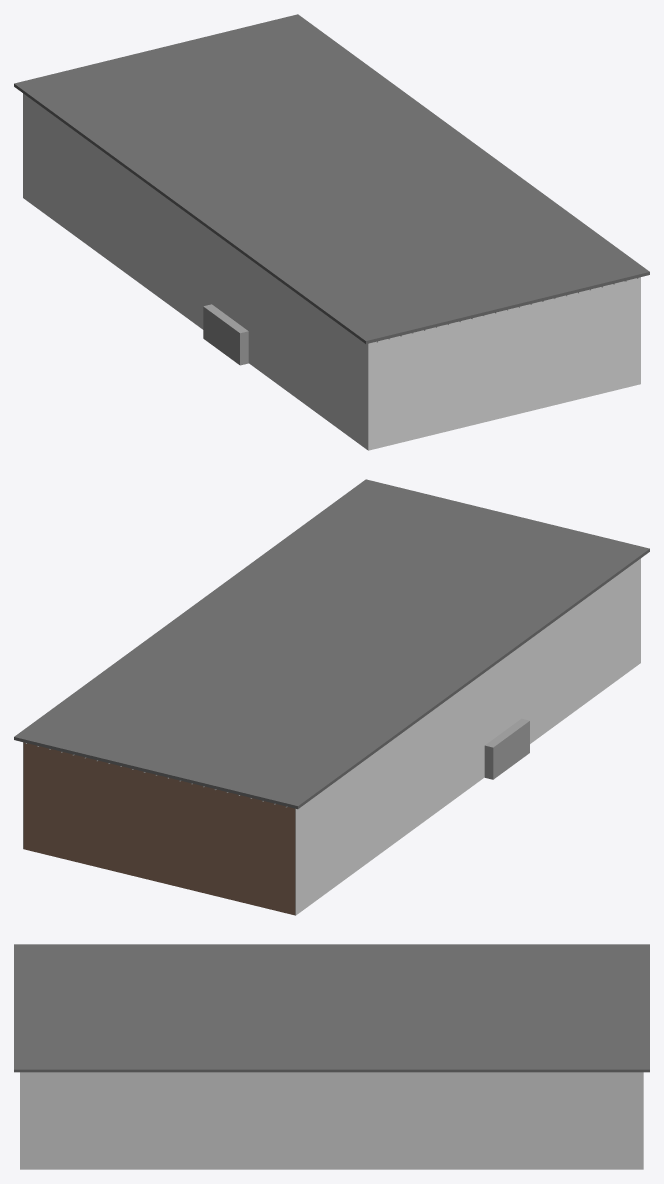
Rendered from Range_25m.fbx.
3 renders of one model, top to bottom at view 1: azimuth 30°, elevation 25°; view 2: azimuth 150°, elevation 25°; view 3: azimuth 270°, elevation 25°, orthographic. The views are drawn at different scales.
Parts seen in each view (by area): view 1: Structure_1, Extra; view 2: Structure_1, Extra; view 3: Structure_1.
Boxes of the visible parts, x1=… form: Structure_1: x1=14, y1=14, x2=649, y2=450; Extra: x1=203, y1=304, x2=248, y2=365; Structure_1: x1=14, y1=479, x2=649, y2=915; Extra: x1=484, y1=718, x2=529, y2=779; Structure_1: x1=14, y1=944, x2=649, y2=1169.
Bounding box in the file's own units: 48.5 × 18.35 × 103.
